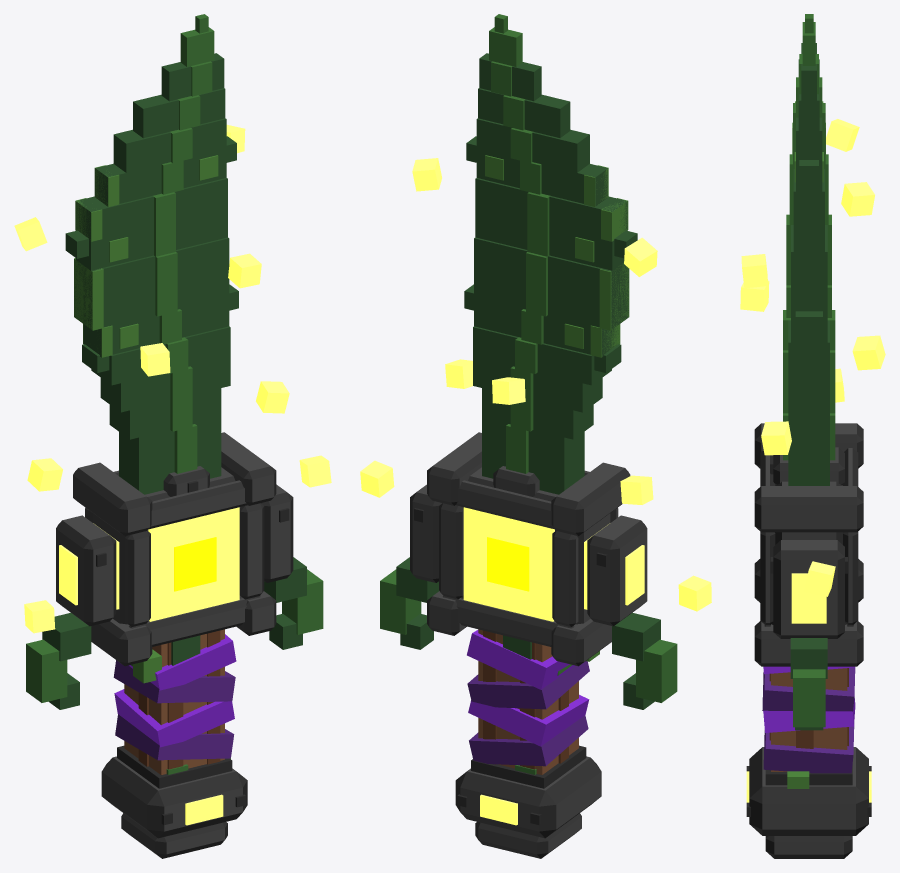
Rendered from firefly_fangs.glb.
3 renders of one model, left to right at view 1: azimuth 30°, elevation 25°; view 2: azimuth 150°, elevation 25°; view 3: azimuth 270°, elevation 25°, orthographic. The views are drawn at different scales.
Parts seen in each view (by area): view 1: window_front, pommel_main, bracket_L, corner_0, wrap_2, frame_front_bottom, frame_front_top, wrap_3, bracket_R, wrap_1, frame_front_right, frame_front_left (+70 smaller); view 2: window_back, pommel_main, bracket_L, corner_0, wrap_1, wrap_3, wrap_2, frame_back_bottom, frame_back_top, wrap_0, frame_back_left, bracket_R (+63 smaller); view 3: pommel_main, corner_1, bracket_R, corner_3, wrap_3, pommel_base, leaf_nub_R_b, grip_wood, wrap_1, blade_r4_right, side_window_R, blade_r7_right (+42 smaller).
Part boxes in pixels (left/top/right/bottom): window_front: left=148, top=507, right=239, bottom=621; pommel_main: left=101, top=756, right=247, bottom=838; bracket_L: left=56, top=515, right=116, bottom=626; corner_0: left=73, top=462, right=152, bottom=535; wrap_2: left=114, top=689, right=234, bottom=747; frame_front_bottom: left=129, top=596, right=260, bottom=646; frame_front_top: left=148, top=480, right=247, bottom=529; wrap_3: left=115, top=714, right=234, bottom=760; bracket_R: left=261, top=484, right=293, bottom=582; wrap_1: left=113, top=660, right=235, bottom=703; frame_front_right: left=239, top=503, right=264, bottom=599; frame_front_left: left=125, top=530, right=150, bottom=626; window_back: left=463, top=507, right=554, bottom=621; pommel_main: left=455, top=756, right=601, bottom=838; bracket_L: left=587, top=515, right=647, bottom=626; corner_0: left=551, top=462, right=630, bottom=536; wrap_1: left=467, top=661, right=589, bottom=709; wrap_3: left=469, top=715, right=588, bottom=766; wrap_2: left=468, top=694, right=589, bottom=746; frame_back_bottom: left=443, top=596, right=574, bottom=646; frame_back_top: left=456, top=480, right=554, bottom=529; wrap_0: left=467, top=630, right=574, bottom=689; frame_back_left: left=552, top=530, right=578, bottom=626; bracket_R: left=410, top=484, right=442, bottom=582; pommel_main: left=749, top=747, right=868, bottom=835; corner_1: left=754, top=486, right=863, bottom=532; bracket_R: left=773, top=540, right=844, bottom=638; corner_3: left=754, top=621, right=863, bottom=666; wrap_3: left=763, top=724, right=854, bottom=773; pommel_base: left=765, top=836, right=852, bottom=858; leaf_nub_R_b: left=793, top=669, right=825, bottom=727; grip_wood: left=771, top=668, right=847, bottom=771; wrap_1: left=762, top=667, right=855, bottom=711; blade_r4_right: left=788, top=320, right=829, bottom=372; side_window_R: left=791, top=573, right=826, bottom=623; blade_r7_right: left=791, top=225, right=827, bottom=282.
Size of the model in its own units: 0.3508 by 0.855 by 0.1335.
